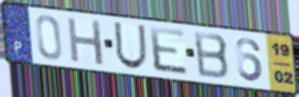0: (33, 13, 64, 61)
6: (235, 37, 265, 83)
B: (192, 29, 232, 81)
E: (147, 25, 191, 77)
H: (65, 15, 106, 67)
U: (112, 21, 149, 71)
